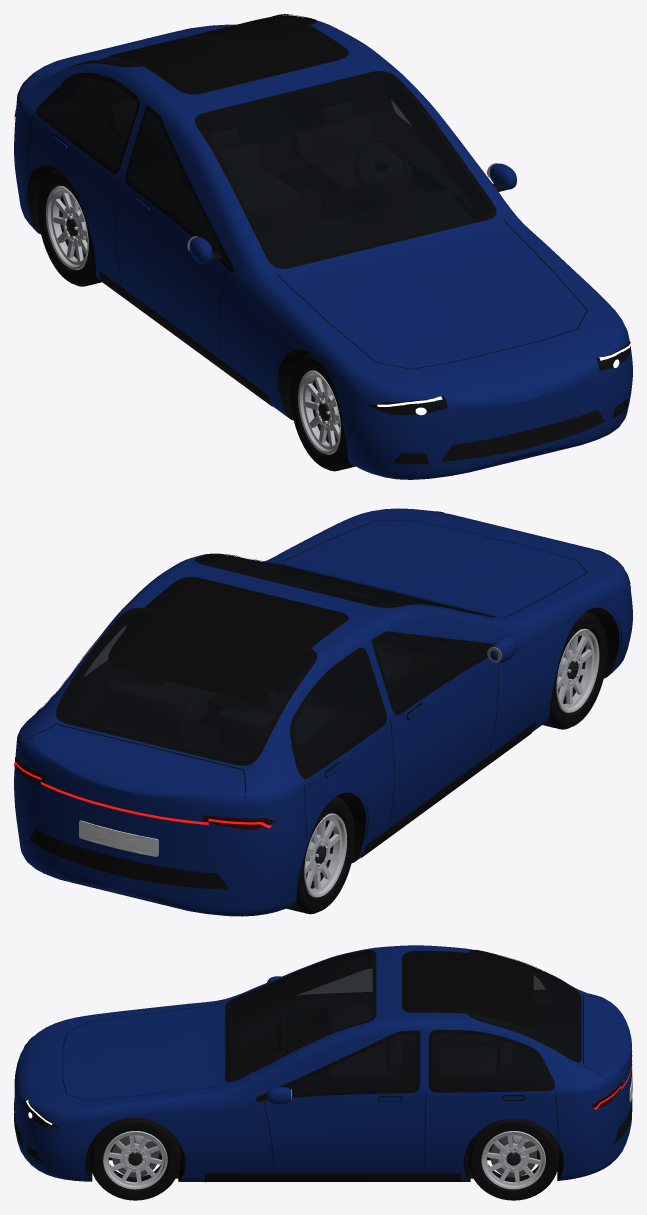
File: berline.glb
3 views of the same model, one above another, from view 1: azimuth 30°, elevation 25°; view 2: azimuth 150°, elevation 25°; view 3: azimuth 270°, elevation 25° (orthographic). The views are drawn at different scales.
Parts seen in each view (by area): view 1: carrosserie, vitres, interieur, toit_vitre, joints, roue_AVD, roue_ARD, grille_avant, bas_de_caisse, feux_avant, retros; view 2: carrosserie, vitres, toit_vitre, interieur, joints, roue_AVD, roue_ARD, grille_avant, bas_de_caisse, feux_arriere, plaque, retros; view 3: carrosserie, vitres, interieur, toit_vitre, joints, roue_AVG, roue_ARG, bas_de_caisse, grille_avant, retros.
Part boxes in pixels (x1,y1,x2,y2): carrosserie: (14, 15, 632, 479); vitres: (39, 16, 491, 264); interieur: (106, 100, 471, 264); toit_vitre: (108, 17, 348, 94); joints: (27, 14, 587, 369); roue_AVD: (290, 352, 355, 471); roue_ARD: (37, 168, 101, 286); grille_avant: (391, 398, 628, 464); bas_de_caisse: (25, 163, 290, 406); feux_avant: (368, 342, 630, 415); retros: (187, 163, 516, 263); carrosserie: (14, 508, 632, 916); vitres: (61, 555, 489, 773); toit_vitre: (108, 577, 348, 700); interieur: (106, 582, 467, 759); joints: (25, 520, 587, 839); roue_AVD: (542, 611, 607, 729); roue_ARD: (287, 796, 355, 914); grille_avant: (29, 829, 229, 889); bas_de_caisse: (355, 605, 621, 857); feux_arriere: (14, 757, 275, 829); plaque: (79, 820, 158, 856); retros: (487, 636, 516, 662); carrosserie: (14, 945, 631, 1181); vitres: (229, 951, 577, 1097); interieur: (230, 1006, 512, 1081); toit_vitre: (402, 950, 533, 1027); joints: (62, 949, 605, 1170); roue_AVG: (89, 1117, 180, 1200); roue_ARG: (468, 1118, 559, 1200); bas_de_caisse: (82, 1160, 461, 1182); grille_avant: (14, 1097, 632, 1162); retros: (267, 976, 292, 1104).
Size of the model in its own units: 2.1 by 1.45 by 4.71.
